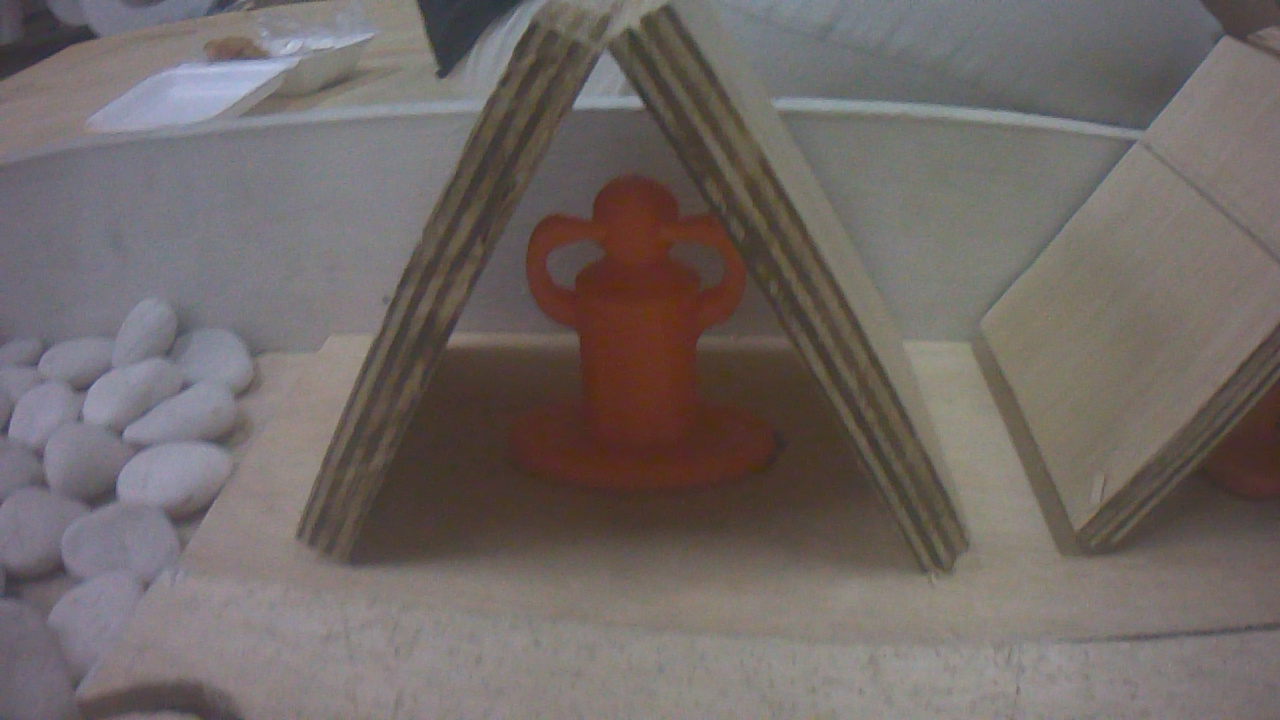real: (517, 164, 770, 489)
